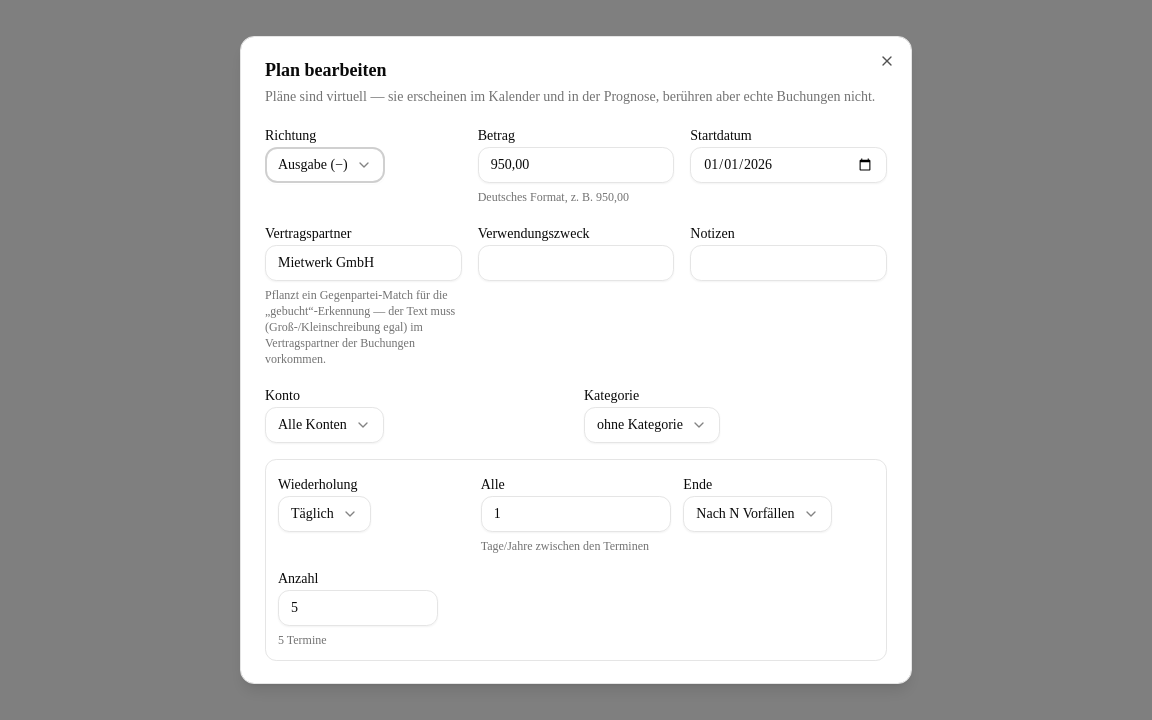
plan dialog: invalid builder input must not crash the page › an out-of-range 'Nach N Vorfällen' count is contained the same way
The image size is (1152, 720).
Replace the text in the number field labelled "Anzahl 5 Termine" with "500" at [358, 608], box [278,590,438,626]
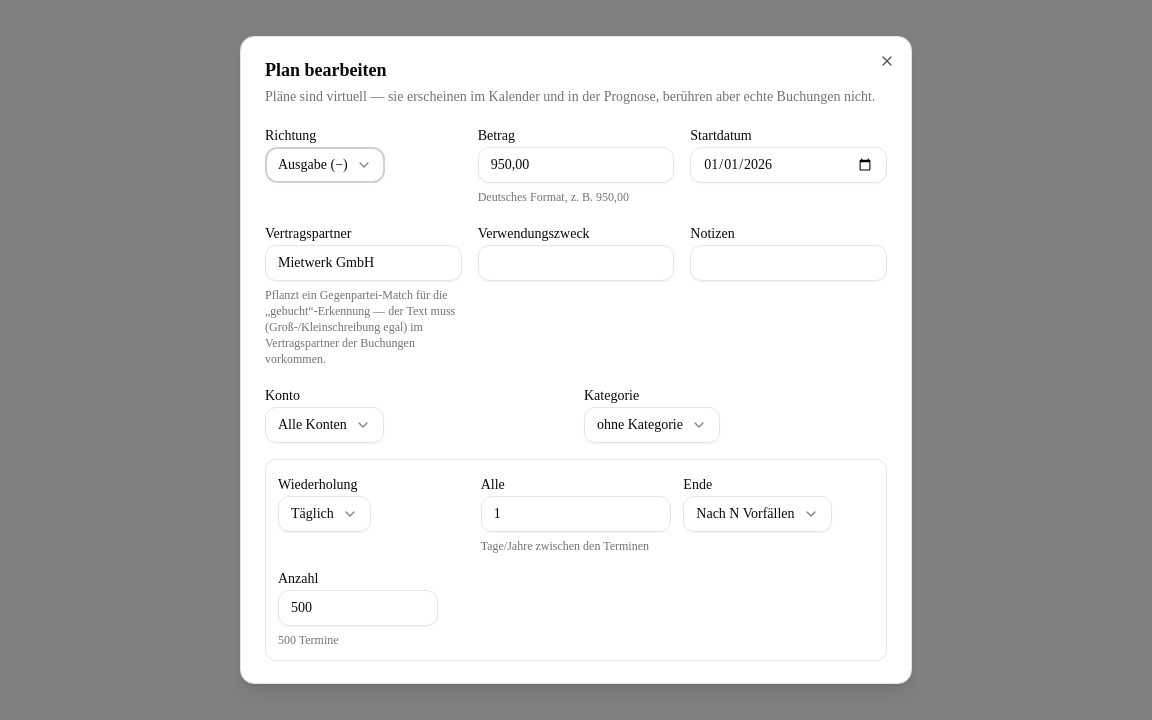
Replace the text in the number field labelled "Anzahl 500 Termine" with "12" at [358, 608], box [278,590,438,626]
(page scrolled)
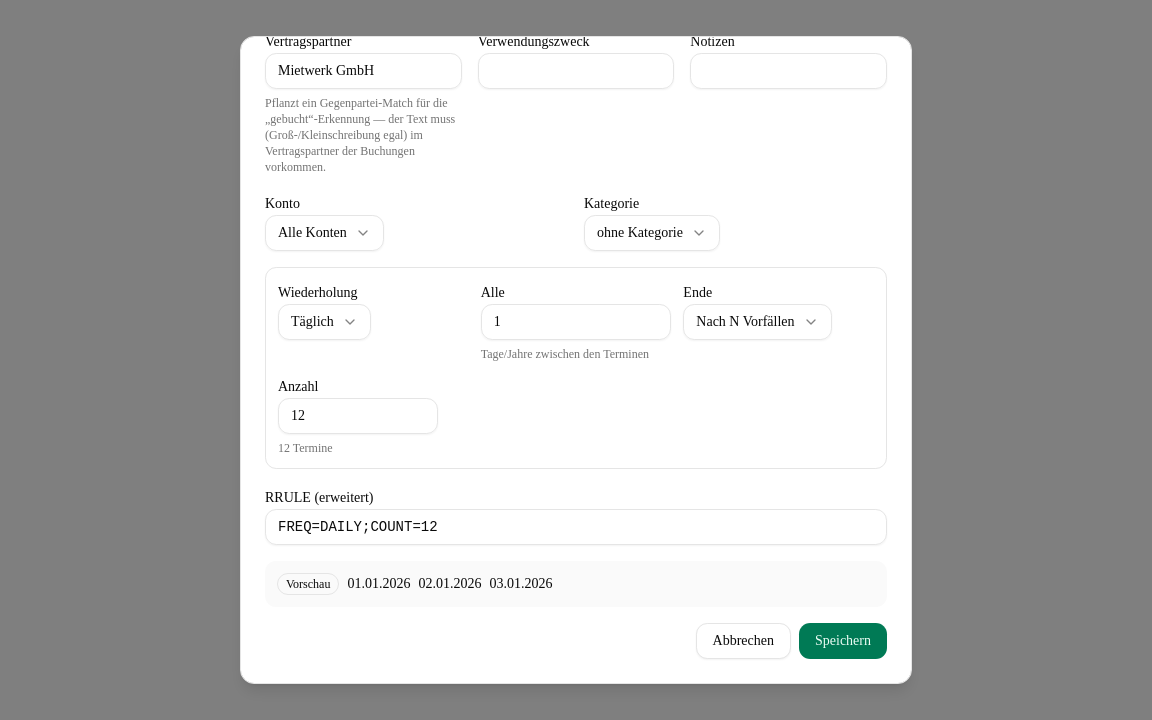
Check: the button "Speichern" is enabled, box [799,623,887,659]
